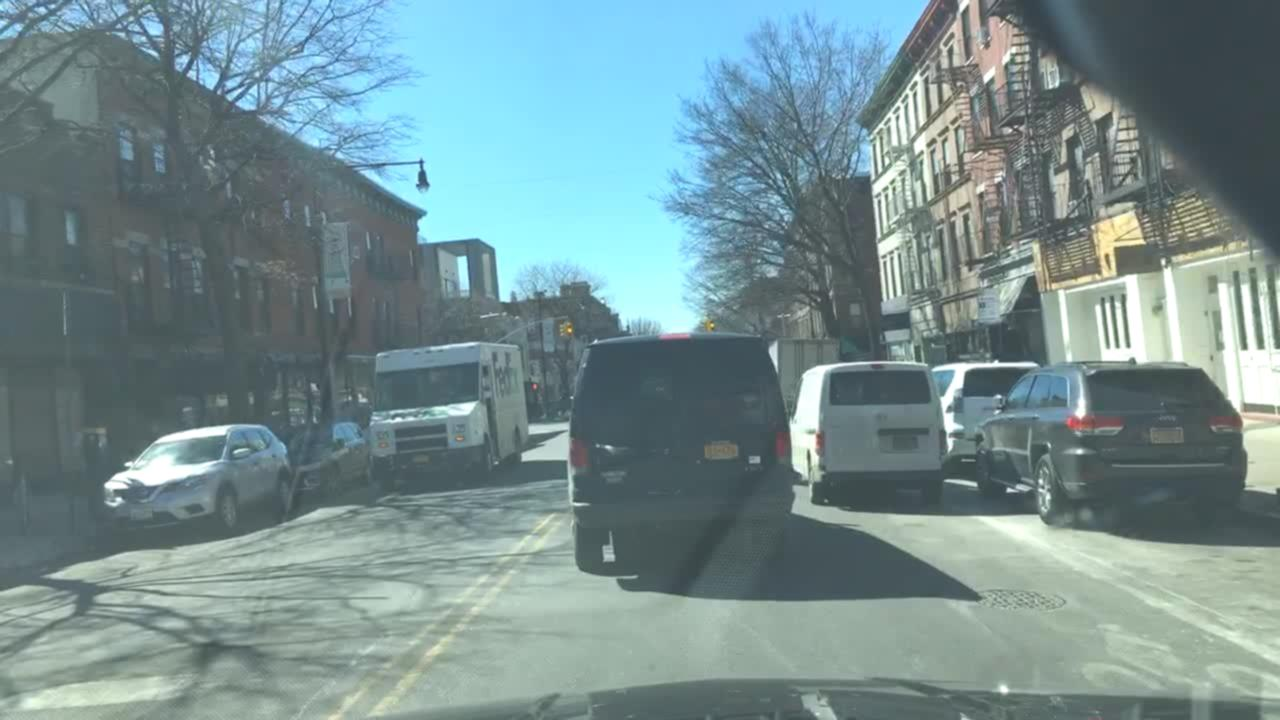jeep: (1152, 407, 1185, 427)
